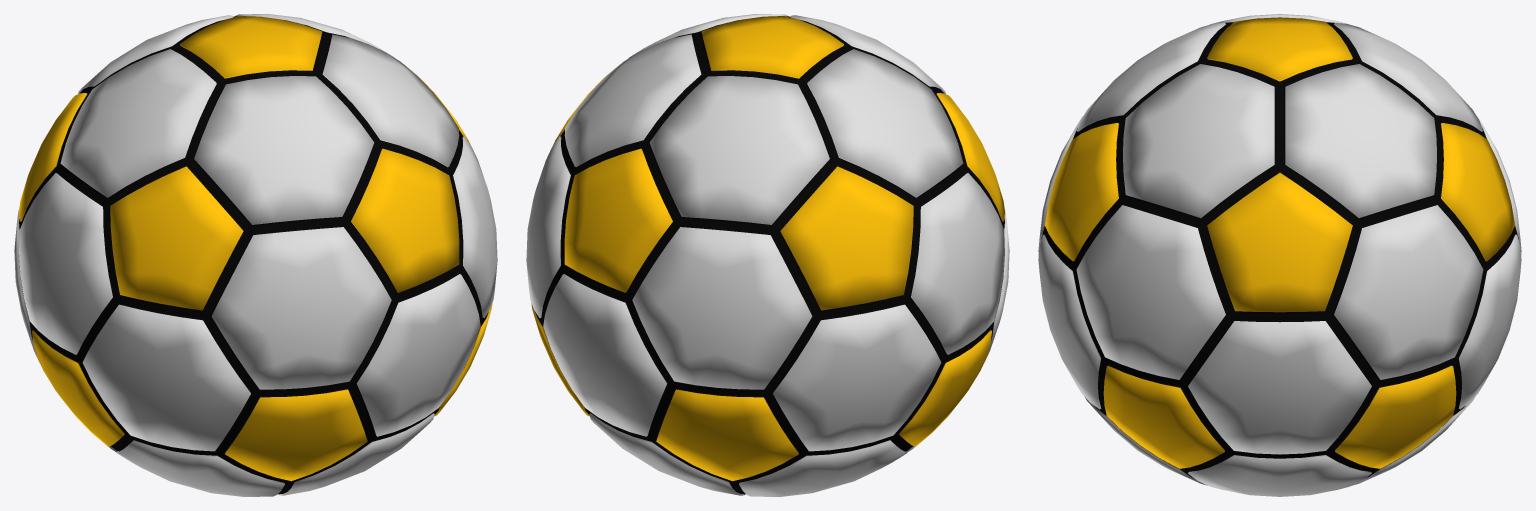
The model's file is balonamarillo.glb.
3 renders of one model, left to right at view 1: azimuth 30°, elevation 25°; view 2: azimuth 150°, elevation 25°; view 3: azimuth 270°, elevation 25°, orthographic.
Visible parts, largest first — view 1: BalonAmarilloNaranja; view 2: BalonAmarilloNaranja; view 3: BalonAmarilloNaranja.
Part boxes in pixels (bbox=[...]): BalonAmarilloNaranja: bbox=[14, 14, 497, 496]; BalonAmarilloNaranja: bbox=[526, 14, 1009, 496]; BalonAmarilloNaranja: bbox=[1038, 14, 1521, 496].
Bounding box in the file's own units: 1.7 × 1.7 × 1.7.
